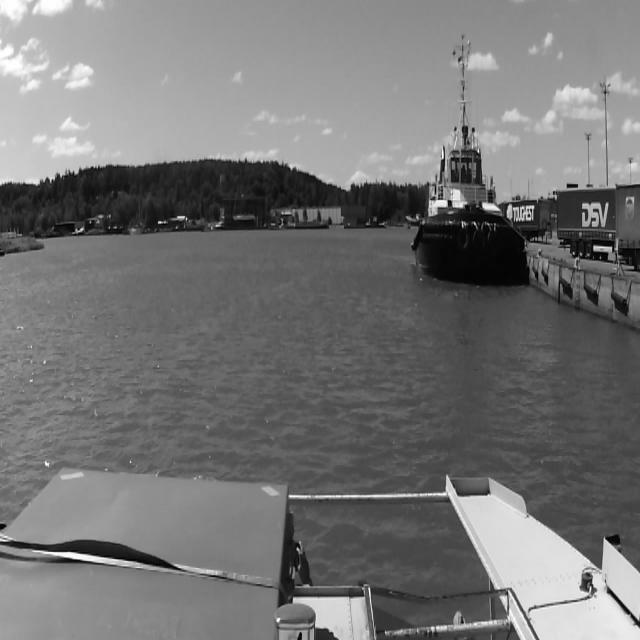ship: (413, 31, 521, 285)
